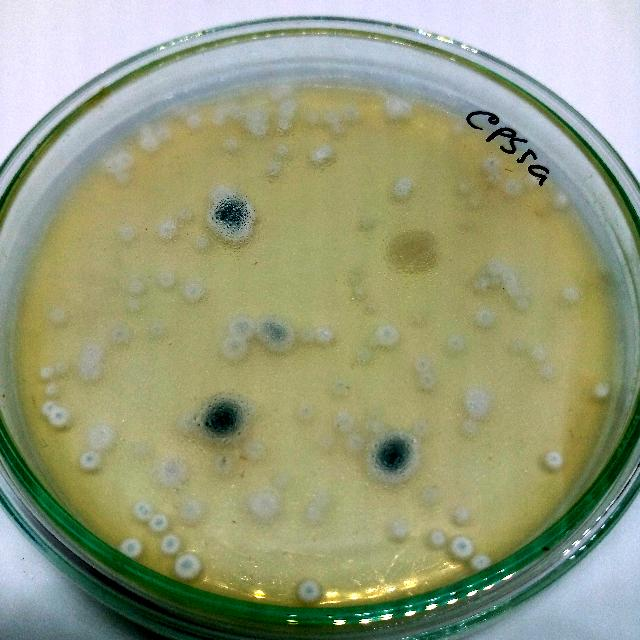colony: (366, 429, 426, 488), (384, 226, 444, 284), (202, 191, 262, 247), (202, 392, 252, 446), (173, 548, 207, 584), (462, 384, 498, 418), (239, 106, 273, 140), (152, 454, 188, 486), (380, 92, 414, 125), (244, 491, 280, 521), (170, 406, 203, 438), (217, 333, 251, 363), (388, 174, 418, 206), (328, 374, 362, 402), (268, 321, 296, 354), (84, 424, 118, 451), (374, 322, 404, 350), (77, 338, 107, 366), (227, 312, 256, 340), (176, 498, 207, 524), (296, 578, 324, 606), (115, 536, 143, 564), (208, 448, 236, 476), (464, 551, 494, 577), (348, 210, 378, 236), (556, 282, 586, 308), (449, 534, 477, 560), (414, 483, 442, 509), (459, 412, 487, 438), (470, 304, 498, 330), (330, 408, 358, 434), (424, 526, 450, 552), (540, 448, 566, 474), (156, 532, 182, 558), (182, 280, 208, 306), (242, 437, 268, 463), (254, 314, 278, 342), (107, 326, 133, 350), (152, 221, 178, 245), (79, 361, 105, 385), (417, 369, 441, 395), (549, 187, 575, 211), (291, 398, 315, 424), (536, 359, 560, 385), (47, 404, 71, 428), (191, 230, 215, 254), (346, 281, 372, 303), (449, 506, 473, 528), (387, 518, 409, 542), (146, 512, 170, 534), (44, 304, 68, 326), (114, 224, 138, 246), (145, 319, 167, 343), (272, 142, 296, 164), (443, 334, 467, 356), (344, 430, 366, 454), (408, 420, 434, 440), (174, 202, 196, 225), (80, 449, 102, 471), (327, 119, 349, 141), (502, 176, 524, 198), (469, 274, 491, 296), (314, 322, 336, 344), (122, 294, 146, 314), (526, 344, 550, 364), (132, 501, 154, 522), (264, 160, 284, 183), (39, 398, 60, 419), (486, 256, 508, 276), (511, 296, 533, 316), (503, 282, 525, 302), (40, 379, 61, 399), (303, 503, 323, 523), (138, 136, 160, 154), (36, 363, 56, 382), (157, 270, 176, 290), (184, 112, 203, 132), (341, 105, 362, 123), (592, 382, 610, 402), (112, 169, 132, 187), (303, 109, 323, 127), (224, 101, 242, 121), (298, 324, 316, 344), (312, 491, 332, 509), (116, 150, 134, 170), (124, 279, 146, 295), (52, 359, 72, 376), (102, 156, 120, 174), (138, 121, 156, 139), (222, 136, 240, 154), (279, 82, 297, 100), (466, 192, 484, 210), (275, 118, 295, 134), (322, 107, 342, 123), (155, 126, 173, 142), (278, 98, 296, 114), (502, 272, 520, 288), (486, 170, 504, 186), (456, 180, 474, 196), (482, 156, 502, 170), (209, 112, 225, 126), (307, 151, 323, 165), (318, 144, 334, 158)
